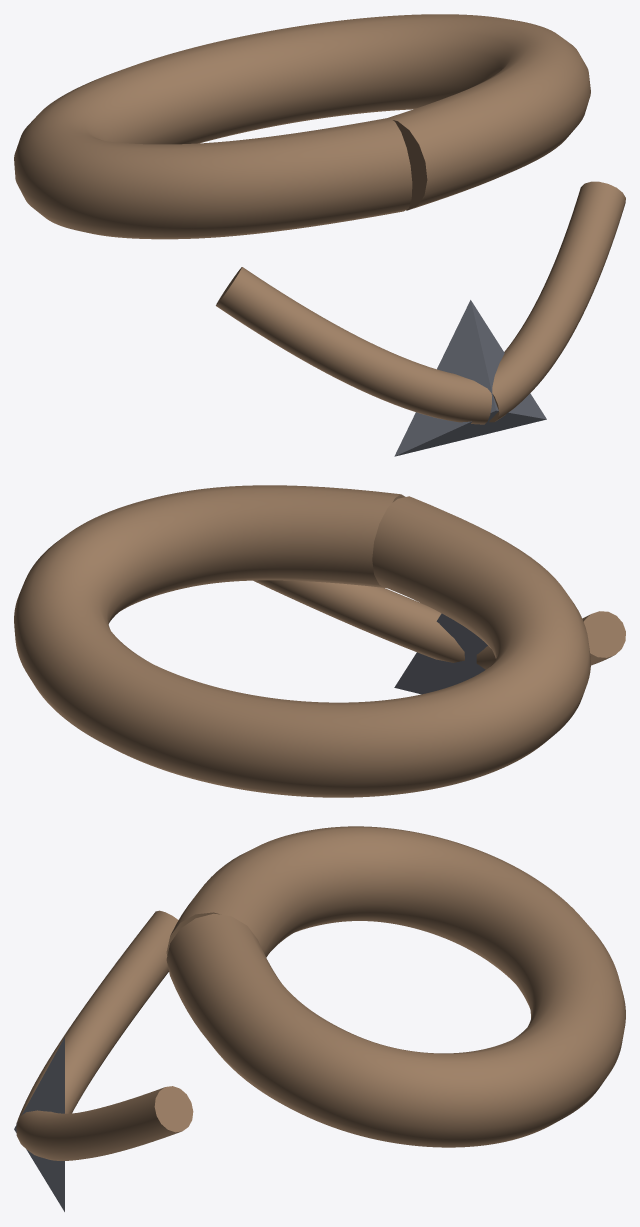
Rendered from sylas_collar.glb.
3 renders of one model, top to bottom at view 1: azimuth 30°, elevation 25°; view 2: azimuth 150°, elevation 25°; view 3: azimuth 270°, elevation 25°, orthographic.
Parts seen in each view (by area): view 1: sylas_collar; view 2: sylas_collar; view 3: sylas_collar.
Boxes of the visible parts, box(x1,y1,x2,y2) form: sylas_collar: box(14, 14, 625, 456); sylas_collar: box(14, 485, 625, 797); sylas_collar: box(14, 826, 625, 1211).
Bounding box in the file's own units: 0.3608 × 0.1704 × 0.3604.
